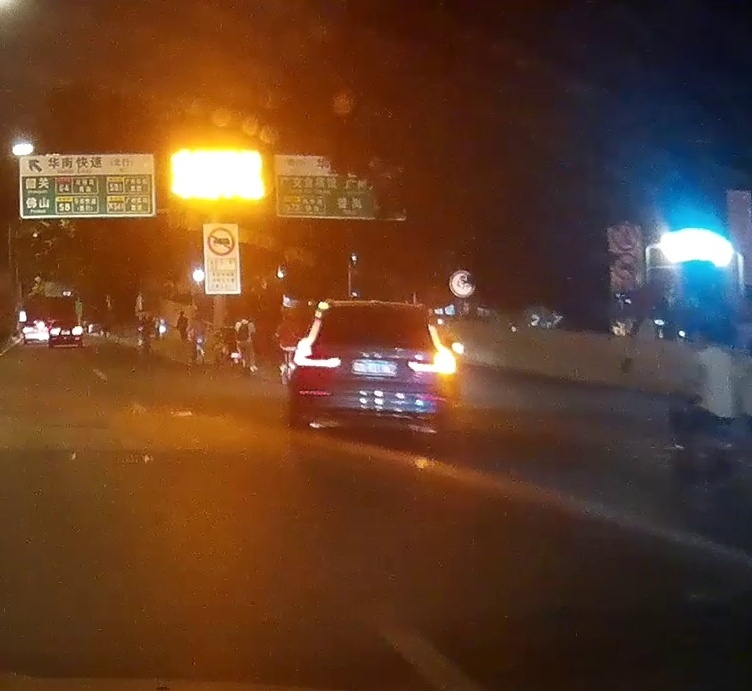L_light: (293, 319, 341, 368)
R_light: (407, 322, 457, 373)
T_light: (367, 307, 388, 312)
night-right: (286, 298, 460, 437)
